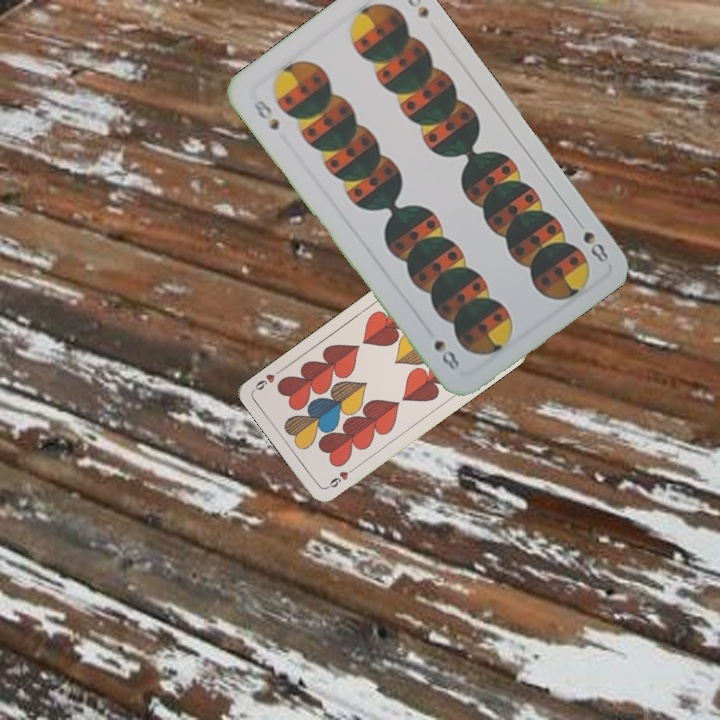H9: (323, 463, 358, 491)
S8: (579, 227, 611, 266), (249, 96, 282, 133)
